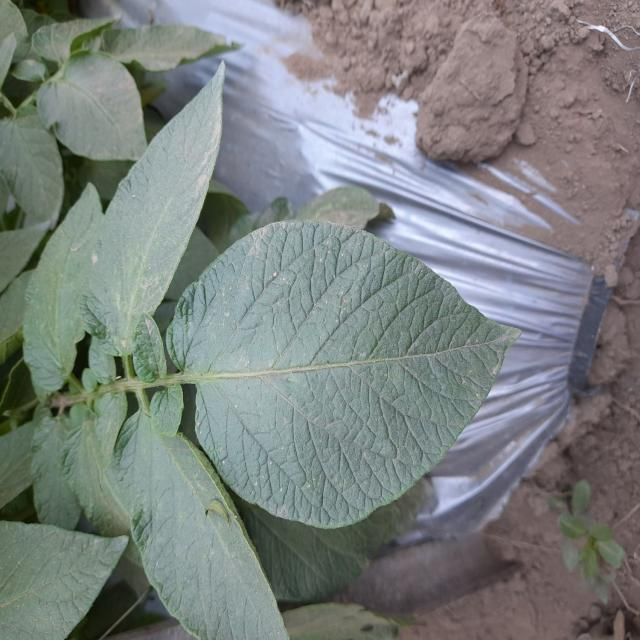healthy: (164, 217, 524, 532)
